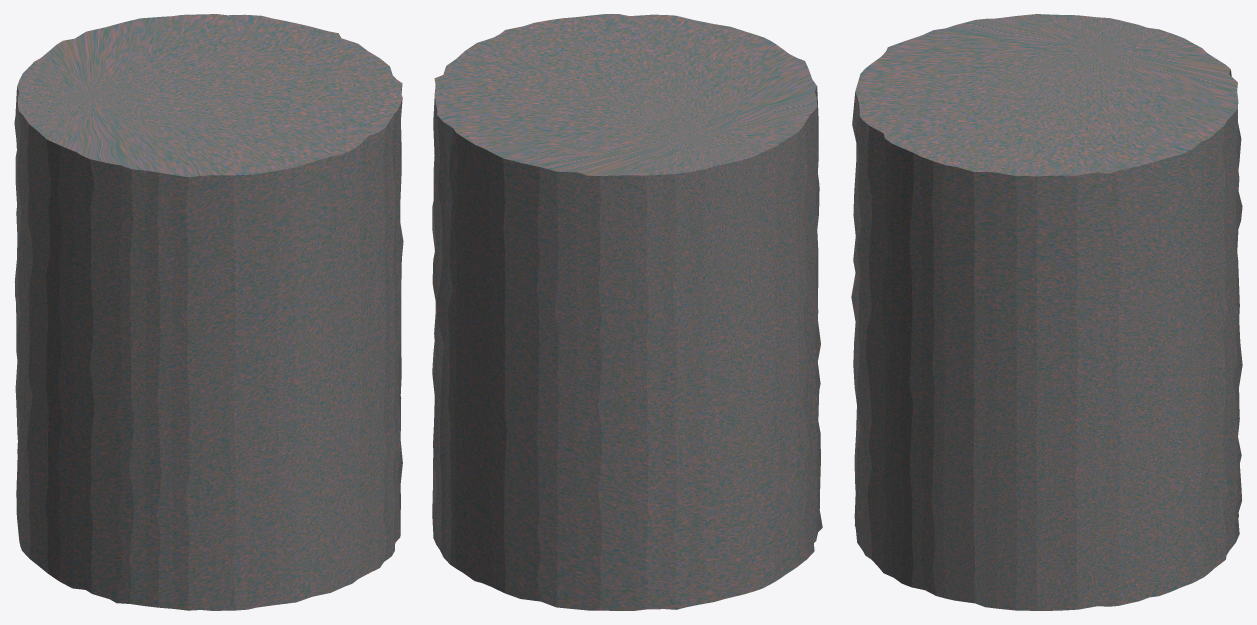
File: barrel_39.dae
3 renders of one model, left to right at view 1: azimuth 30°, elevation 25°; view 2: azimuth 150°, elevation 25°; view 3: azimuth 270°, elevation 25°, orthographic.
Visible parts, largest first — view 1: Cylinder; view 2: Cylinder; view 3: Cylinder.
Boxes of the visible parts, <box> form: Cylinder: <box>14,14,403,610</box>; Cylinder: <box>432,14,822,610</box>; Cylinder: <box>851,14,1242,610</box>.
Size of the model in its own units: 0.8146 by 0.8165 by 1.
1 material, 1 textured.
